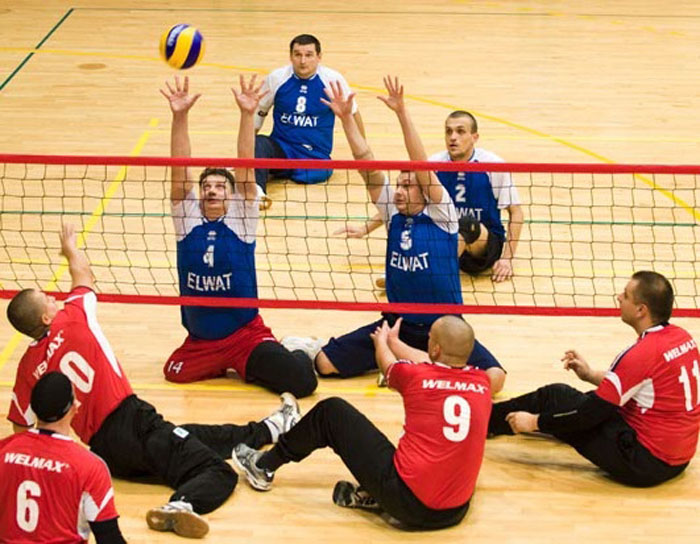ball: (159, 23, 206, 70)
